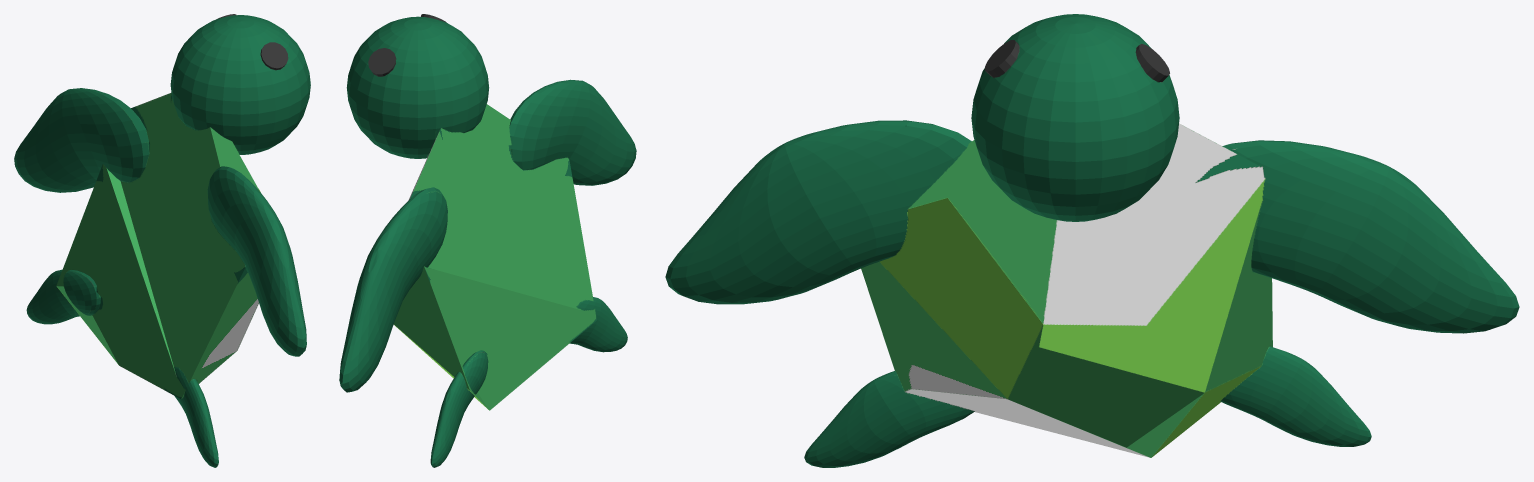
File: Turtle.fbx
3 views of the same model, side by side, from view 1: azimuth 30°, elevation 25°; view 2: azimuth 150°, elevation 25°; view 3: azimuth 270°, elevation 25° (orthographic). The views are drawn at different scales.
Visible parts, largest first — view 1: Icosphere; view 2: Icosphere; view 3: Icosphere.
Boxes of the visible parts, x1,y1,x2,y2 form: Icosphere: [14, 14, 310, 467]; Icosphere: [339, 14, 636, 467]; Icosphere: [665, 14, 1519, 467].
Bounding box in the file's own units: 168 × 317 × 467.
